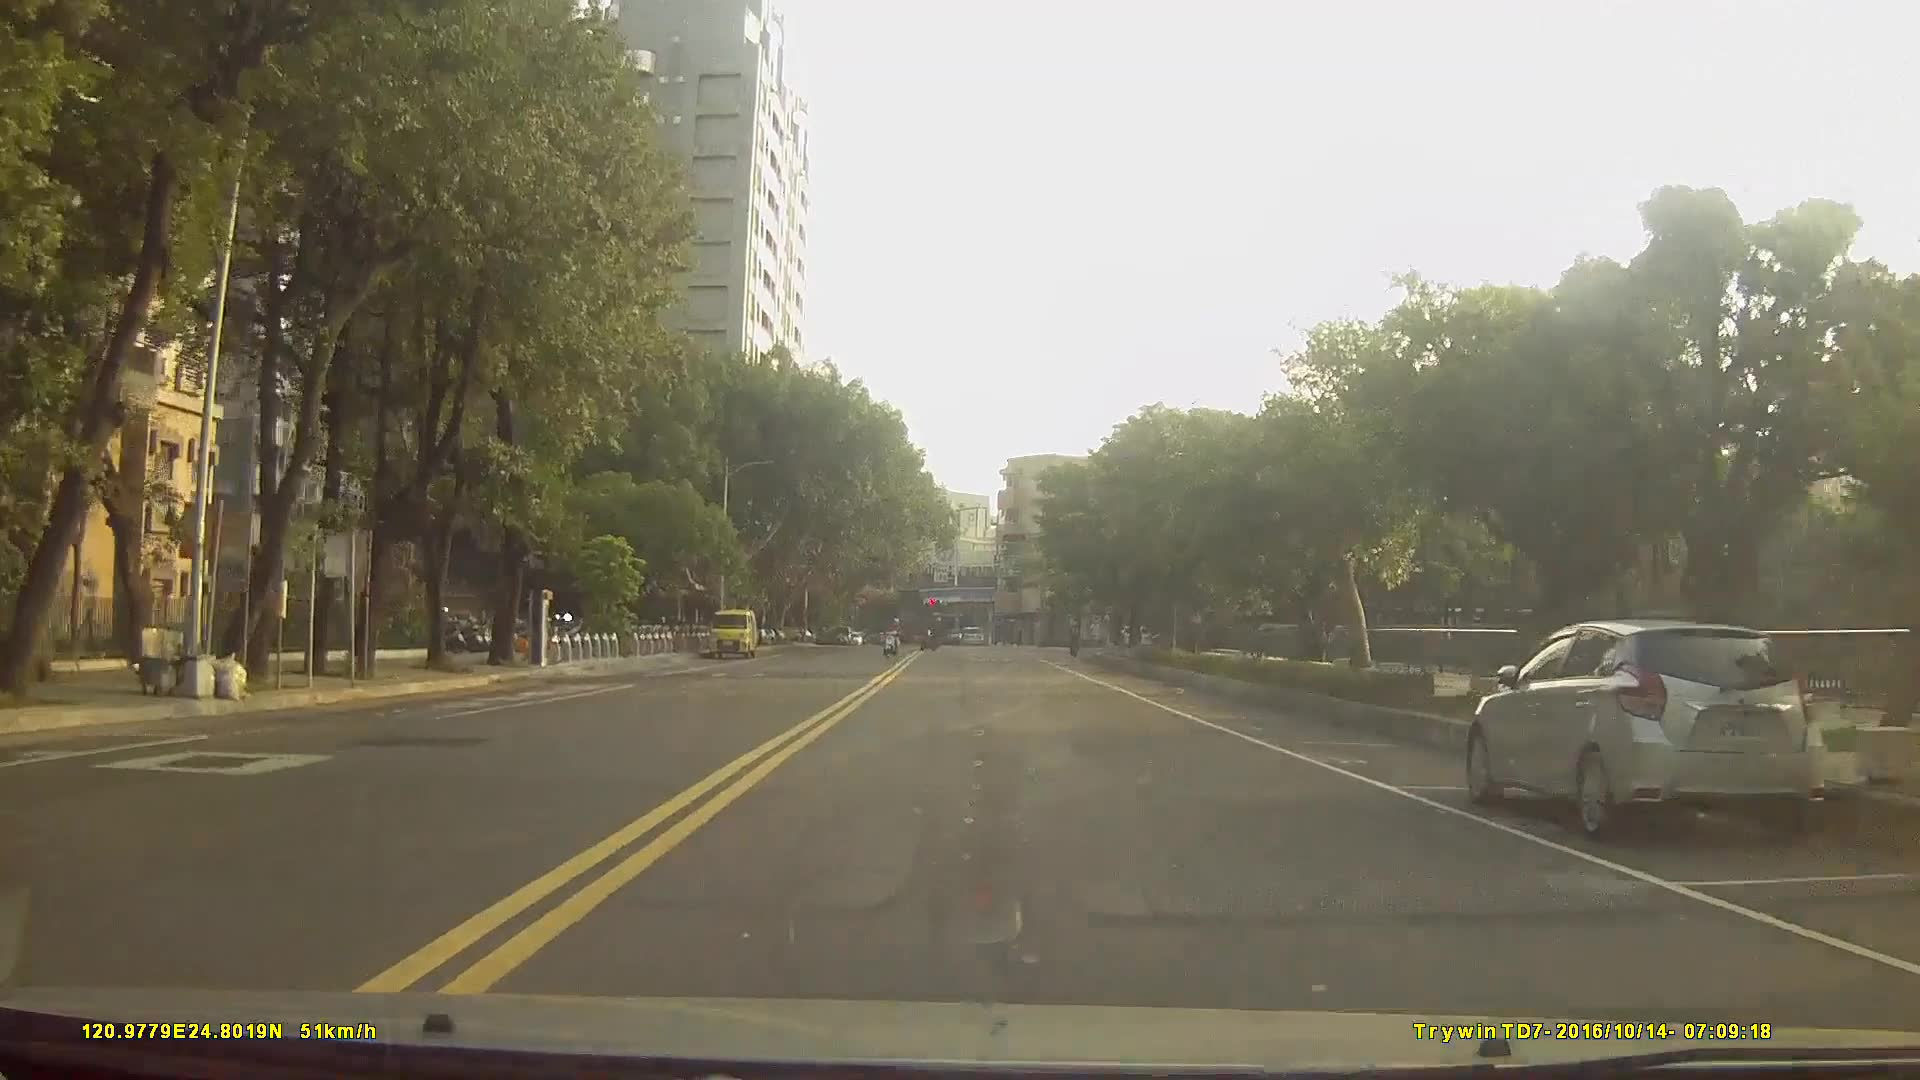pedestrian: (1086, 613, 1106, 656)
rider: (880, 615, 906, 659), (920, 618, 947, 655)
vehicle: (1466, 618, 1829, 843), (958, 625, 984, 649)
